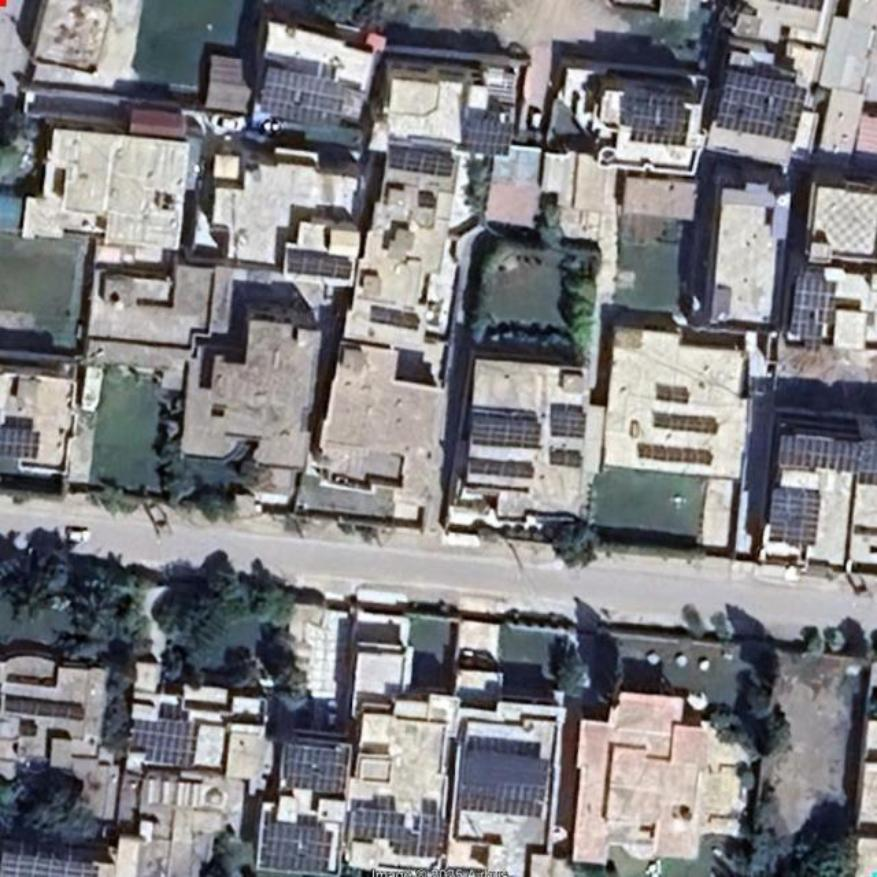Solarpanel: (714, 67, 812, 144), (460, 751, 553, 818), (262, 67, 346, 132), (355, 811, 451, 859), (776, 434, 876, 474), (259, 820, 330, 873), (790, 273, 840, 348), (287, 741, 351, 794), (619, 94, 688, 143), (129, 723, 199, 770), (770, 483, 823, 544), (2, 851, 98, 876), (388, 144, 452, 180), (457, 116, 516, 155), (471, 416, 543, 447), (287, 249, 350, 278), (0, 426, 41, 462), (470, 457, 536, 478), (550, 408, 586, 437), (552, 453, 584, 468)
